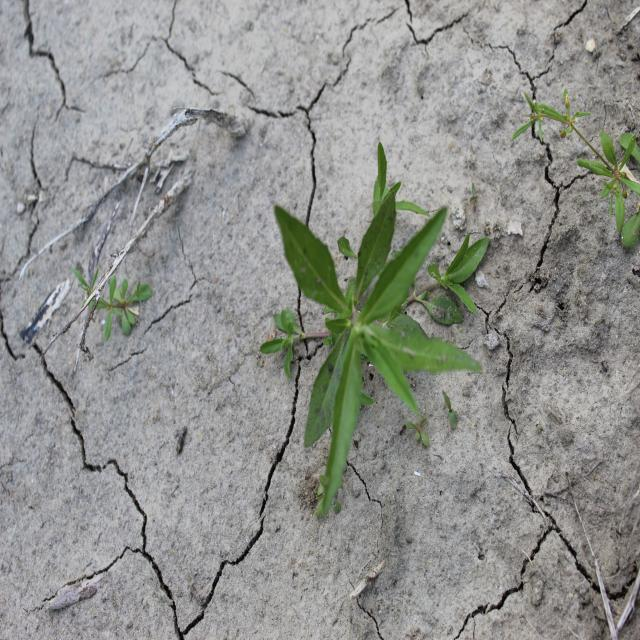Carpetweed: (509, 86, 639, 251), (71, 265, 154, 343)
Eclipta: (258, 139, 492, 523)
